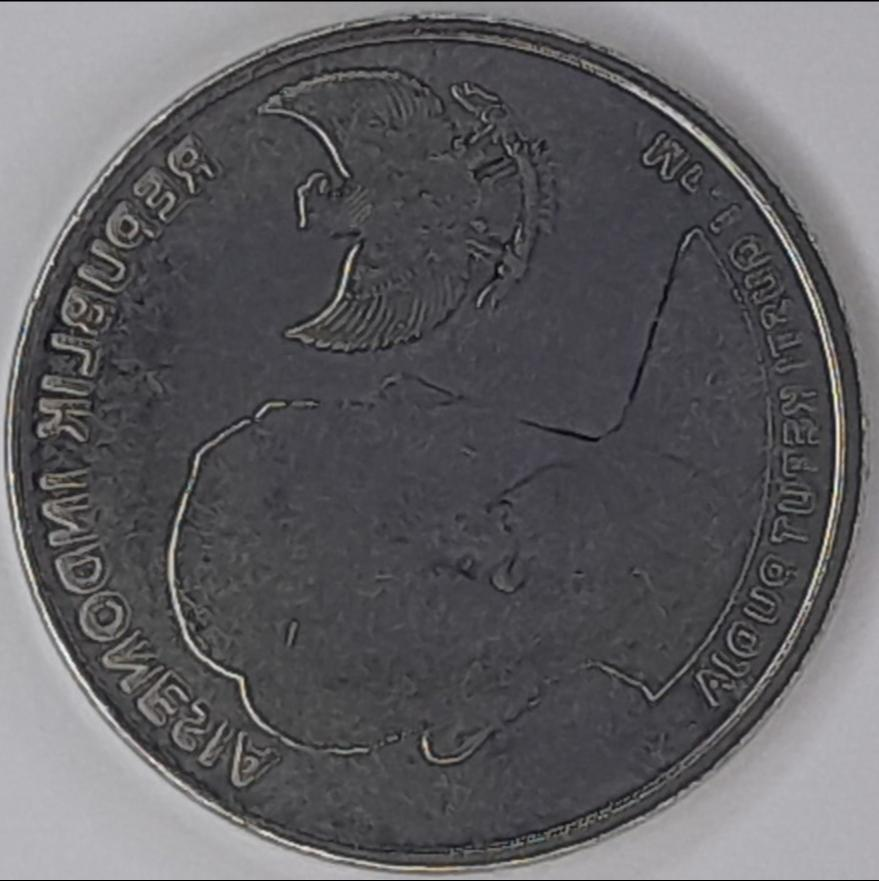coin_1000_e2016: (15, 17, 867, 881)
